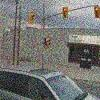cars: (0, 65, 100, 100)
